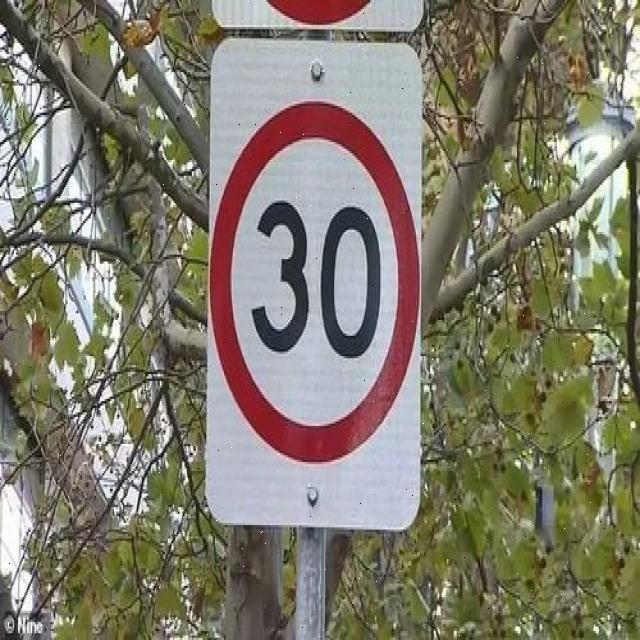speed limit 30: (211, 101, 420, 463)
